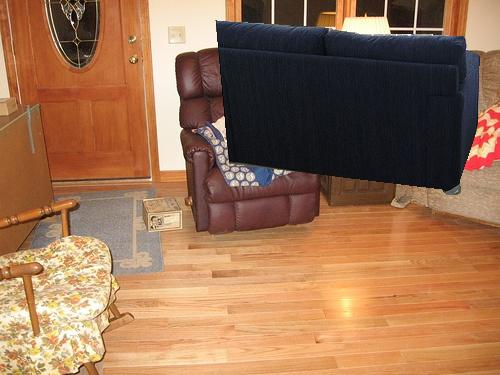tampered: (216, 21, 480, 195)
